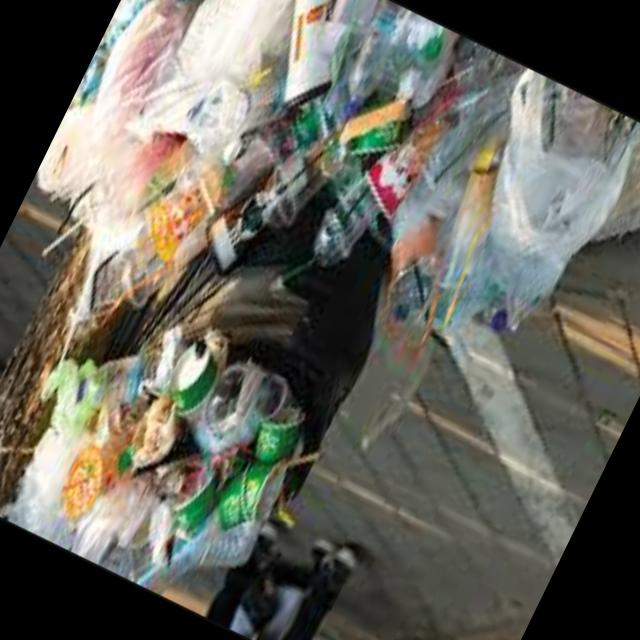KemasanPlastik: (18, 0, 334, 297), (196, 397, 324, 568), (246, 0, 371, 126), (324, 0, 408, 123), (146, 326, 233, 444), (296, 175, 386, 284)
